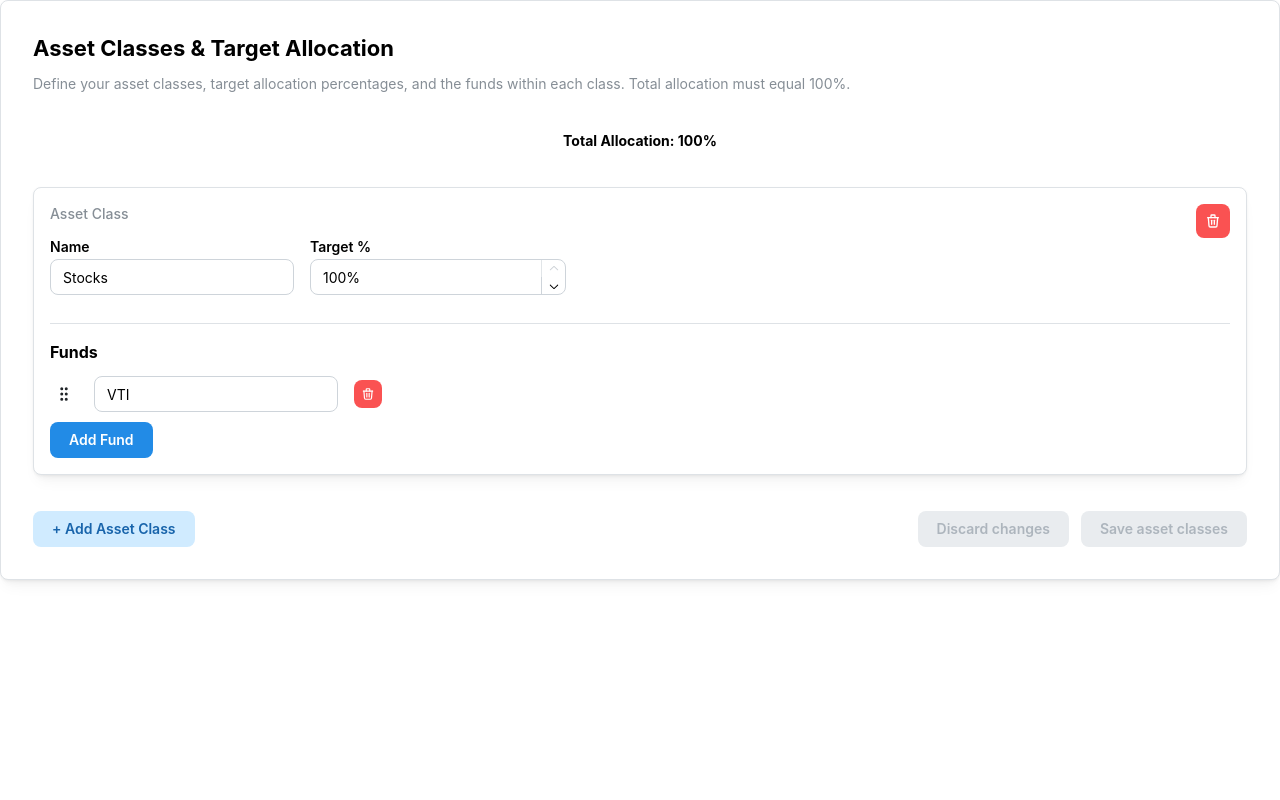
AssetClassSettings › discards unsaved changes, such as a deleted fund
The image size is (1280, 800).
expect the button "Discard changes" is disabled: met, box [918, 511, 1069, 547]
Click the button named "Delete fund VTI" at point(368, 394), box [354, 380, 382, 408]
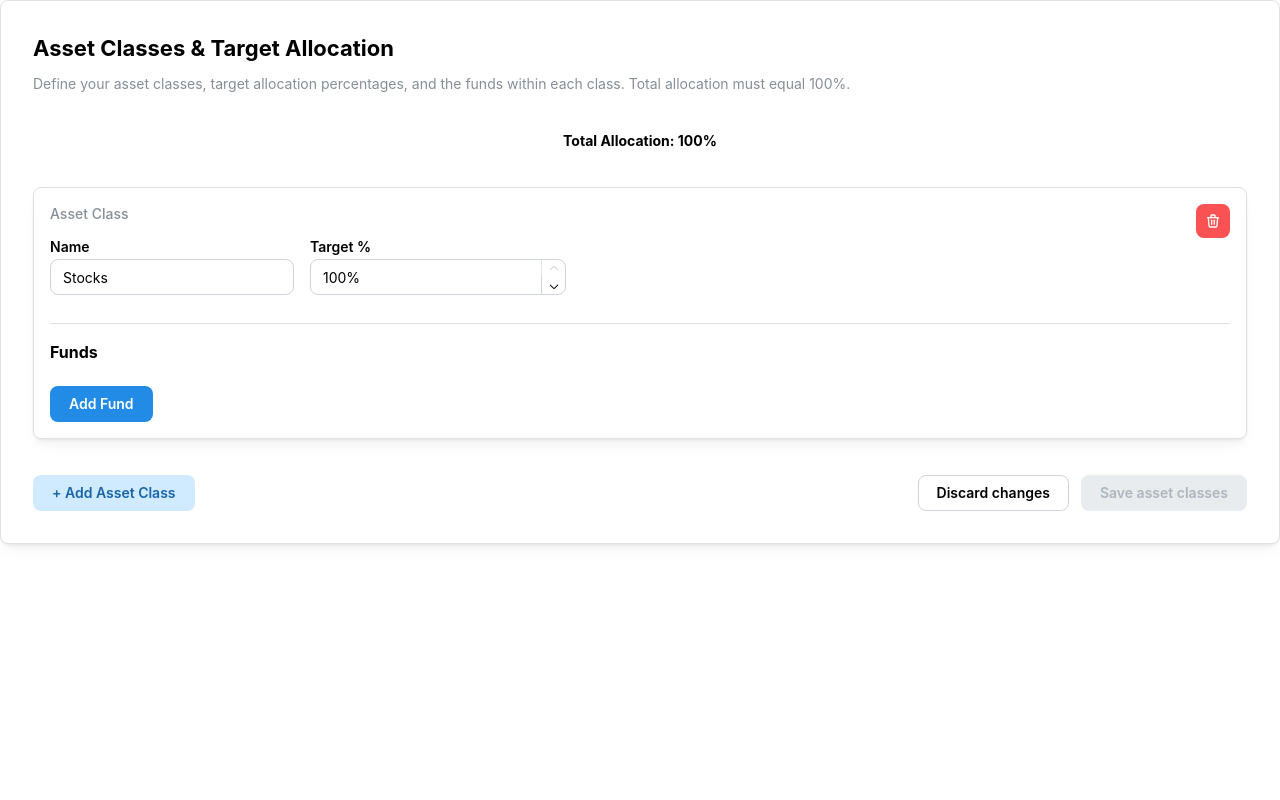
expect the field labelled "Ticker" is gone: met
Click the button "Discard changes" at point(993, 493), box [918, 475, 1069, 511]
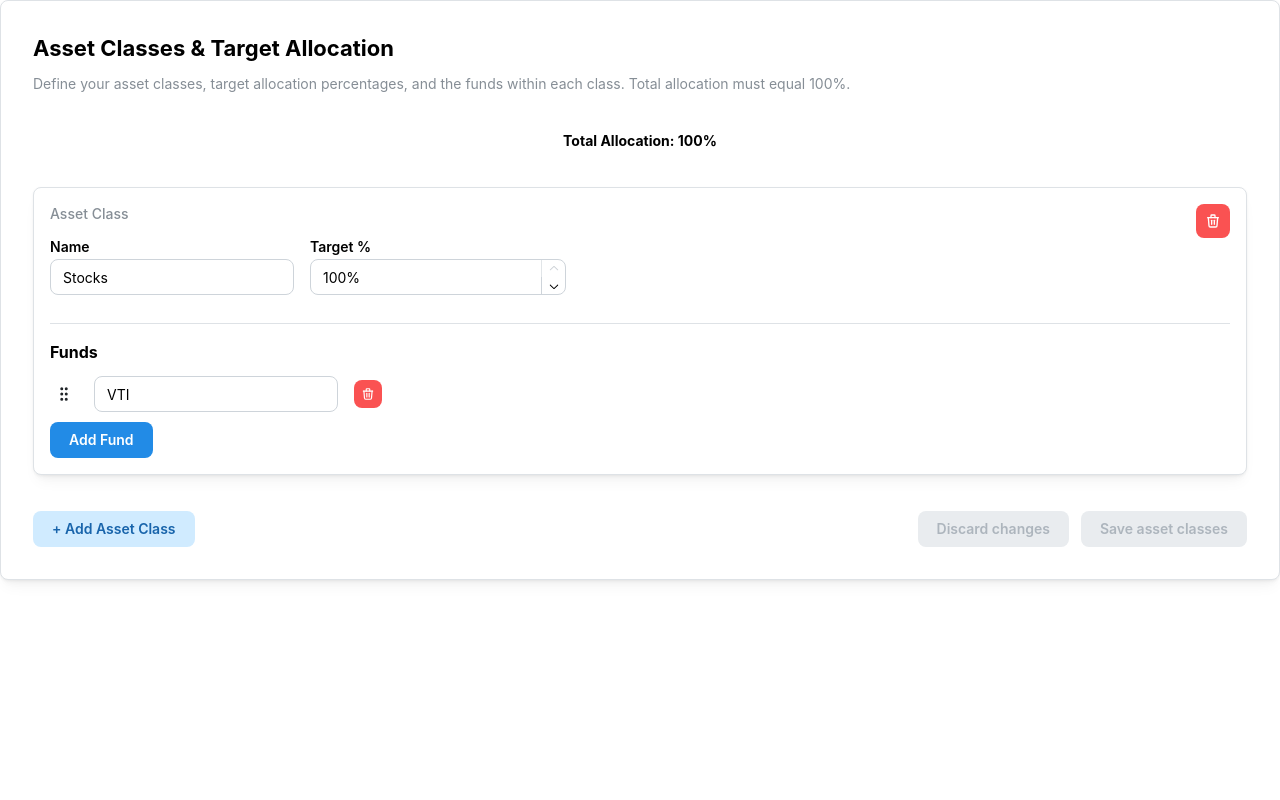
expect the button "Save asset classes" is disabled: met, box [1081, 511, 1247, 547]
expect the field named "Ticker" holds "VTI": met, box [94, 376, 338, 412]
expect the button "Discard changes" is disabled: met, box [918, 511, 1069, 547]
